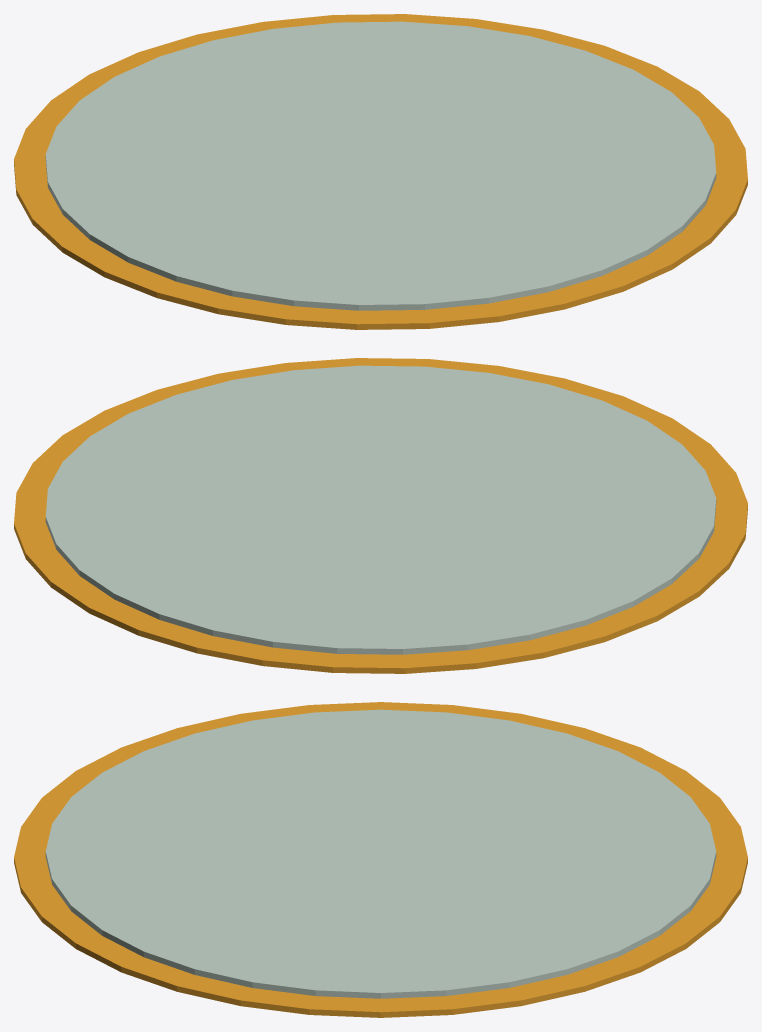
The model's file is plaza.obj.
3 views of the same model, one above another, from view 1: azimuth 30°, elevation 25°; view 2: azimuth 150°, elevation 25°; view 3: azimuth 270°, elevation 25° (orthographic).
Visible parts, largest first — view 1: plaza; view 2: plaza; view 3: plaza.
Part boxes in pixels (x1,y1,x2,y2): plaza: (14, 14, 747, 329); plaza: (14, 358, 747, 673); plaza: (14, 702, 747, 1017).
Size of the model in its own units: 16.2 by 0.28 by 16.2.
